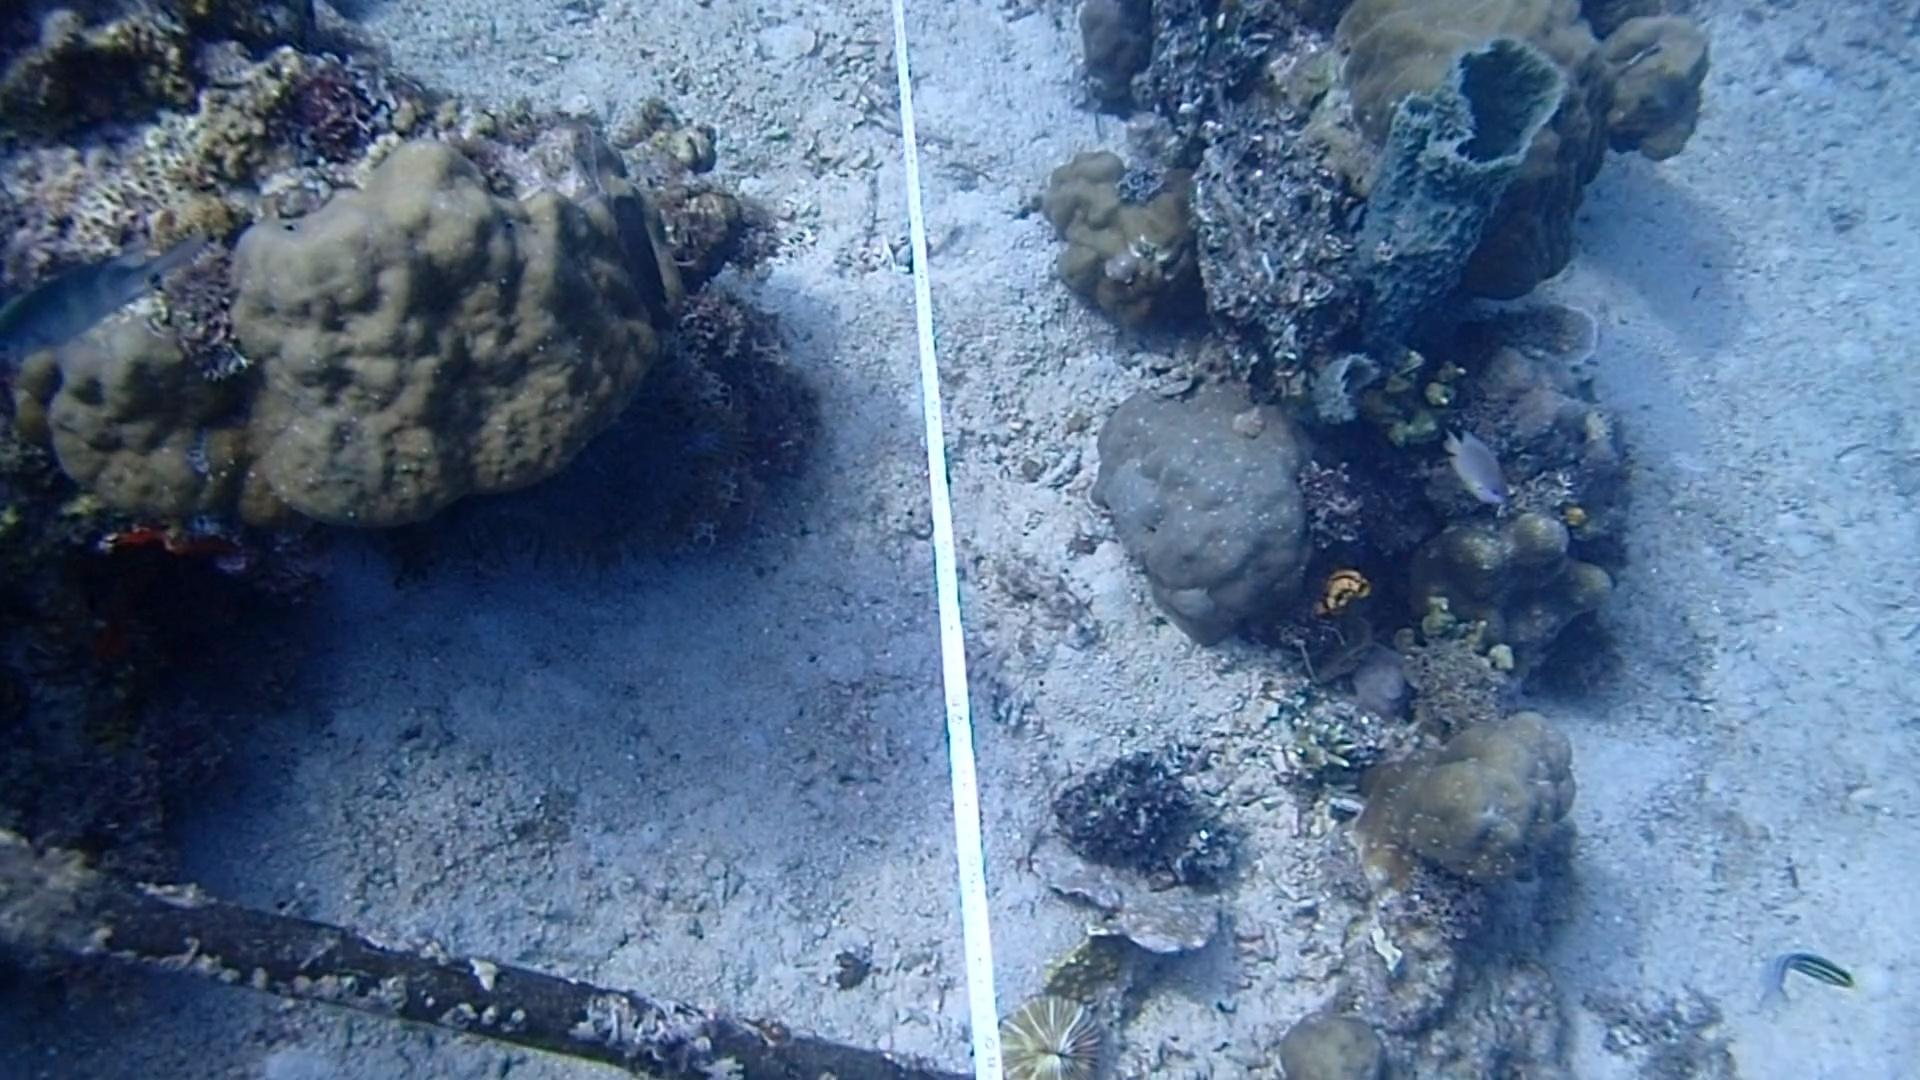Blue Fish: (0, 212, 206, 373)
Blue Nose Fish: (1437, 422, 1516, 516)
Dark Fish: (592, 179, 684, 330)
Striped Fish: (1755, 926, 1854, 1009)
